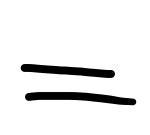eqv: (21, 63, 136, 105)
